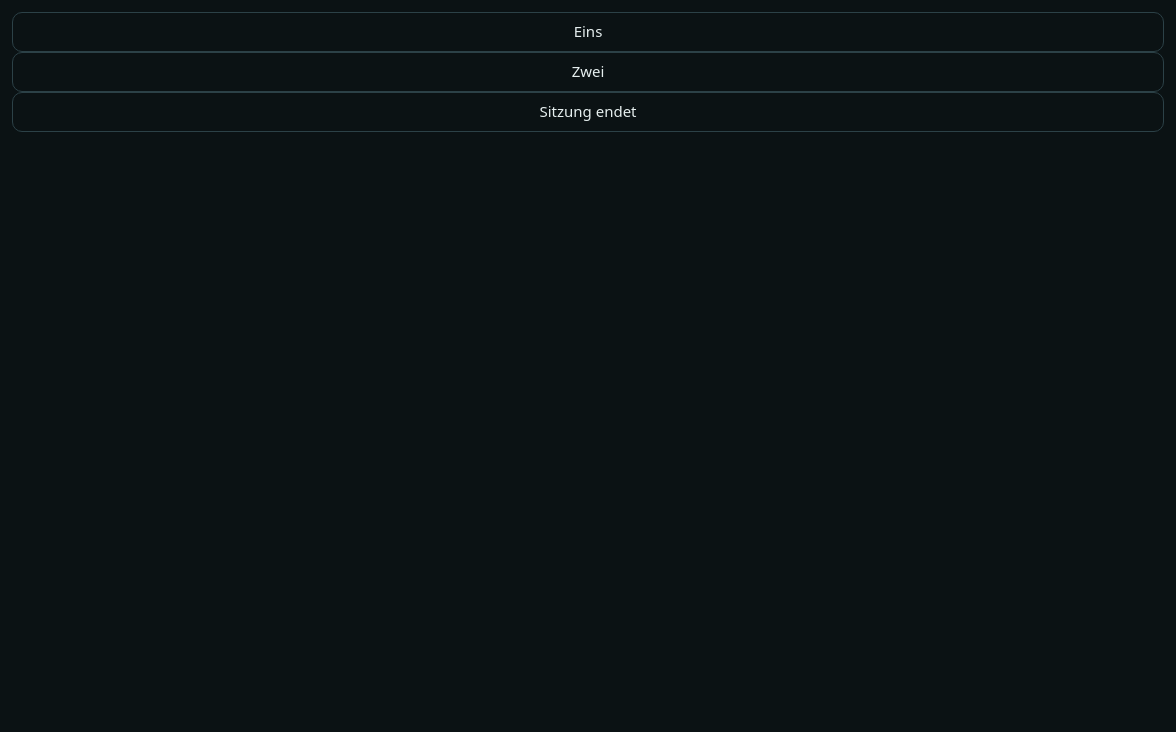
Test: Toast: alle schließen › räumt jede offene Meldung ab, auch die ohne Ablaufzeit
Click the button "Eins". click: {"x": 588, "y": 32}
box: [12,12,1164,52]
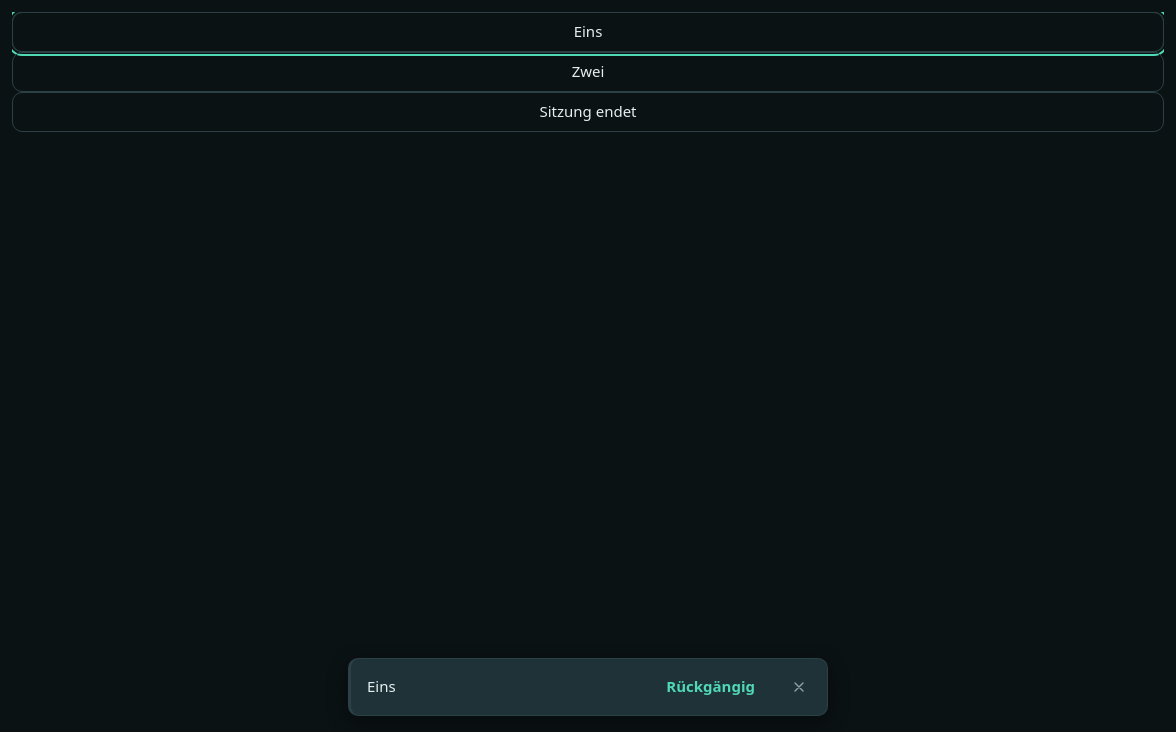
Click the button "Zwei". click: {"x": 588, "y": 72}
box: [12,52,1164,92]
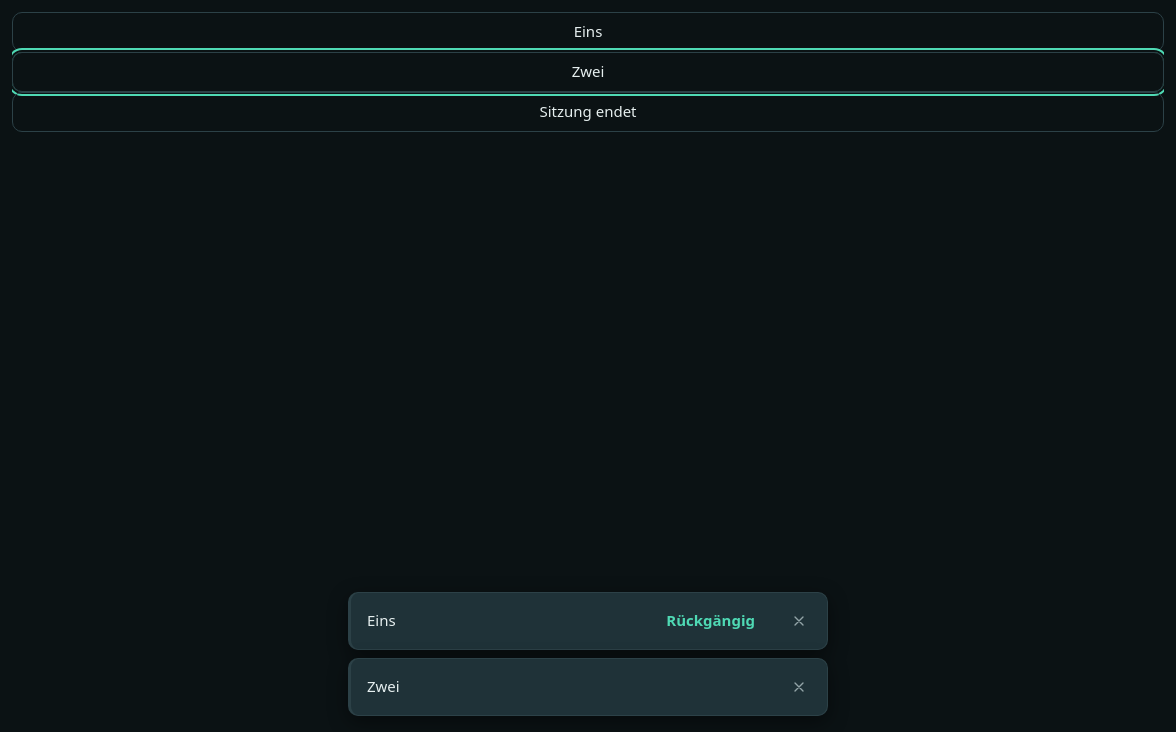
Expected: the 2nd text "Eins" is shown, [367,610,396,630]
Expected: the 2nd text "Zwei" is shown, [367,676,400,696]
Click the button "Sitzung endet". click: {"x": 588, "y": 112}
box: [12,92,1164,132]
Wait 10000 ms
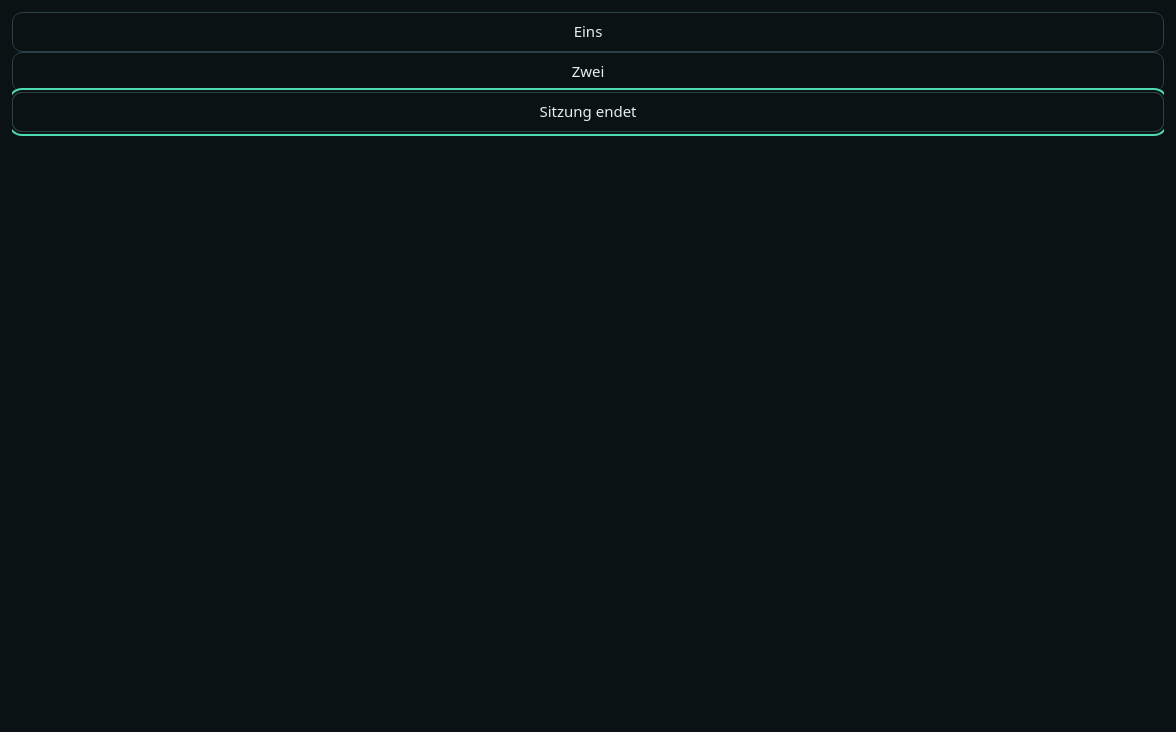
Expected: the button "Rückgängig" is gone
Click the button "Zwei". click: {"x": 588, "y": 72}
box: [12,52,1164,92]
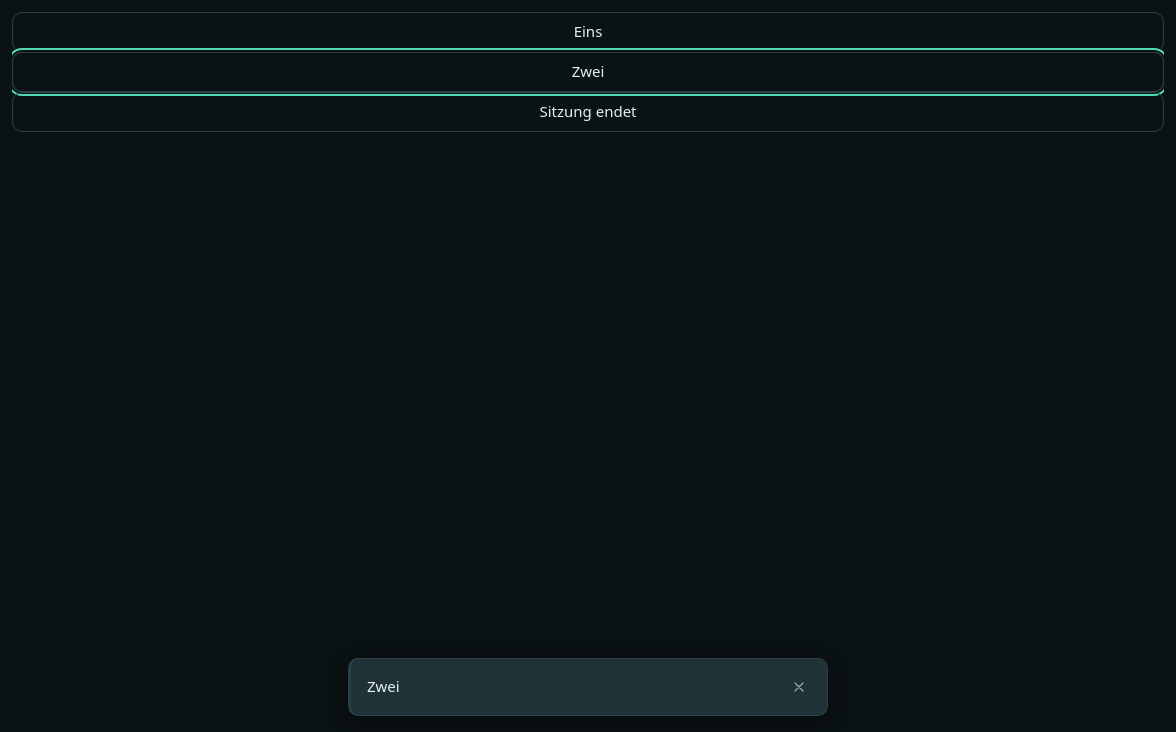
Expected: the 2nd text "Zwei" is shown, [367,676,400,696]
